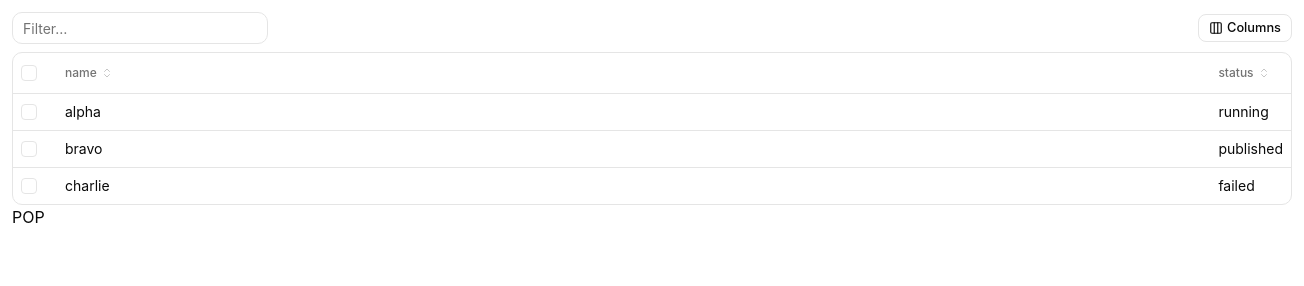
Test: DataTable › exposes bulk actions only once a row is selected
This screenshot has width=1304, height=286.
Expected: the text "chosen" is not shown
Click the checkbox named "Select row" next to "alpha". click: coordinates (29, 112)
box: [21,104,37,120]
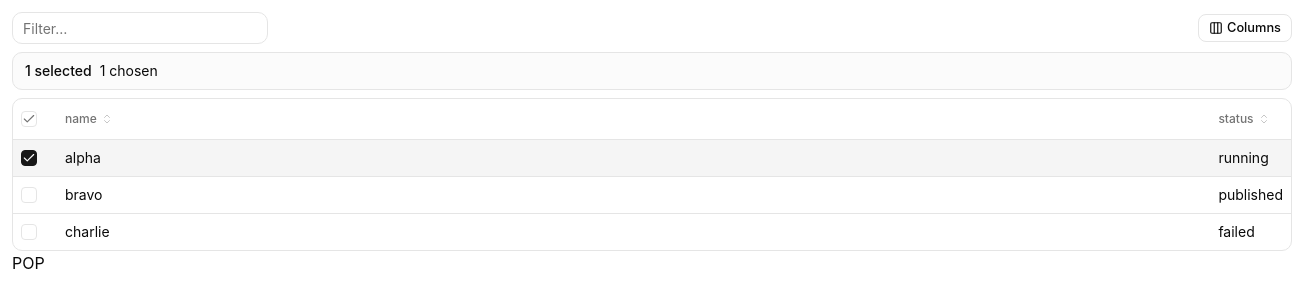
Expected: the text "1 chosen" is shown, [100,61,158,81]
Expected: the text "1 selected" is shown, [25,61,92,81]
